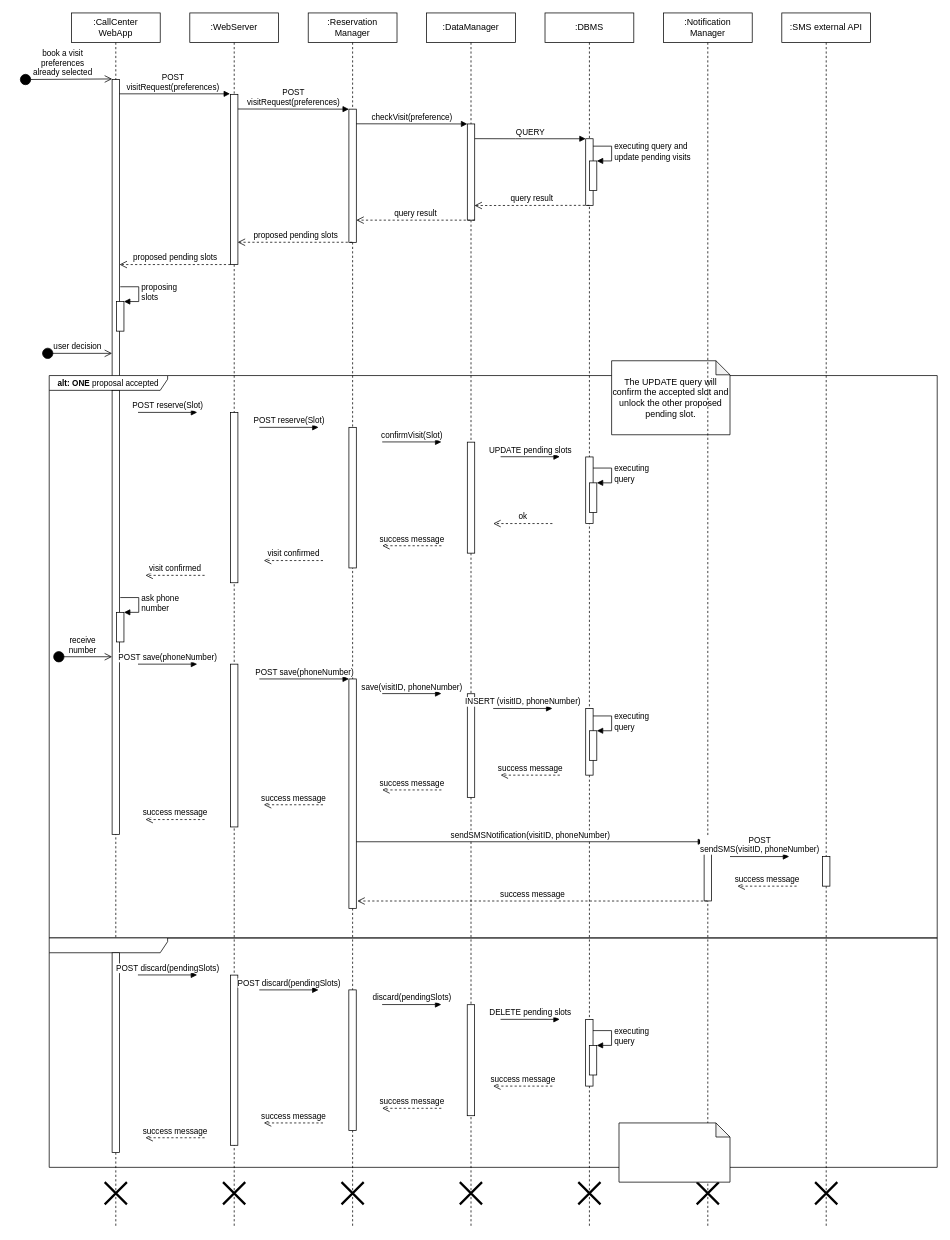
This 950x1240 diagram has some shape labels left out. The shapes that lost their labels are listed below. From the top down, each one's centre as x and y in pixels, then its label:
At point 492,1052: "alt: discard proposals".
At point 674,1152: "The DELETE query will unlock all the proposed pending slots.".
